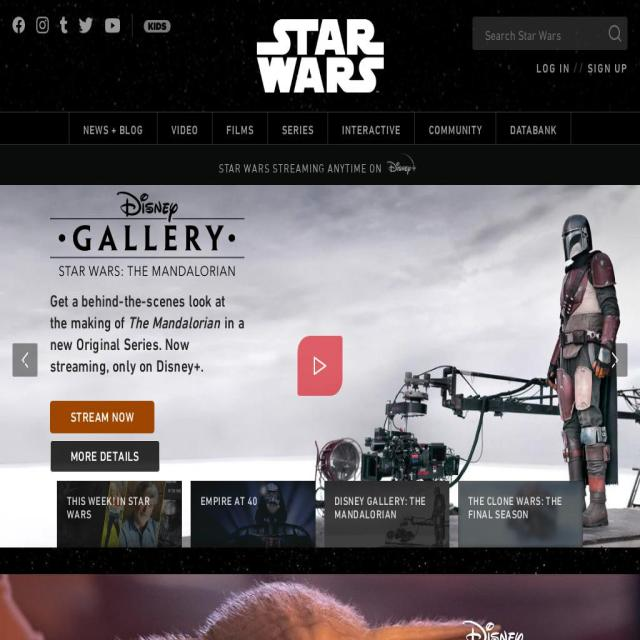button: (0, 145, 640, 182), (50, 439, 134, 473), (83, 123, 143, 137), (342, 123, 401, 137), (429, 123, 482, 137), (510, 123, 557, 137), (282, 123, 314, 137), (226, 123, 254, 137), (171, 123, 198, 137), (144, 19, 170, 33), (104, 18, 120, 34), (79, 17, 93, 34), (36, 17, 49, 33), (13, 17, 25, 33), (60, 17, 68, 33)
field: (477, 18, 602, 52)
heading: (50, 356, 208, 416), (49, 336, 215, 376), (395, 616, 590, 640), (50, 316, 234, 336), (218, 163, 382, 174), (386, 153, 417, 176)
image: (0, 185, 640, 547), (50, 184, 238, 548), (0, 573, 640, 640), (256, 19, 384, 93), (190, 480, 316, 548), (324, 480, 450, 548), (57, 480, 182, 548), (458, 480, 583, 548), (606, 343, 624, 376), (16, 343, 34, 376), (104, 18, 120, 34), (79, 17, 93, 34), (36, 17, 49, 33), (609, 25, 621, 42), (13, 17, 25, 33), (148, 22, 168, 30), (60, 17, 68, 33)
text: (334, 495, 440, 534), (67, 495, 172, 534), (468, 495, 573, 534), (201, 495, 258, 534), (83, 123, 143, 137), (342, 123, 401, 137), (588, 59, 628, 78), (429, 123, 482, 137), (510, 123, 557, 137), (536, 59, 570, 78), (282, 123, 314, 137), (226, 123, 254, 137), (171, 123, 198, 137), (574, 58, 584, 77)
